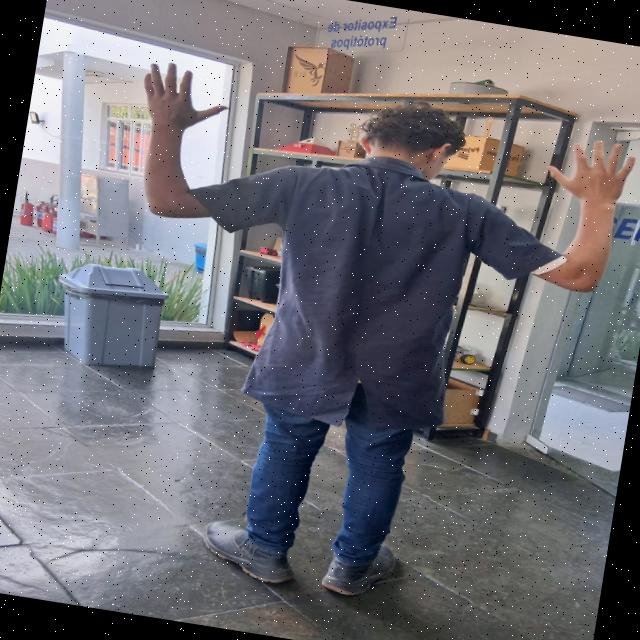BOTA: (197, 520, 302, 581), (316, 536, 405, 594)
JALECO: (185, 156, 565, 430)
SEM LUVA: (142, 58, 228, 135), (541, 138, 639, 205)
